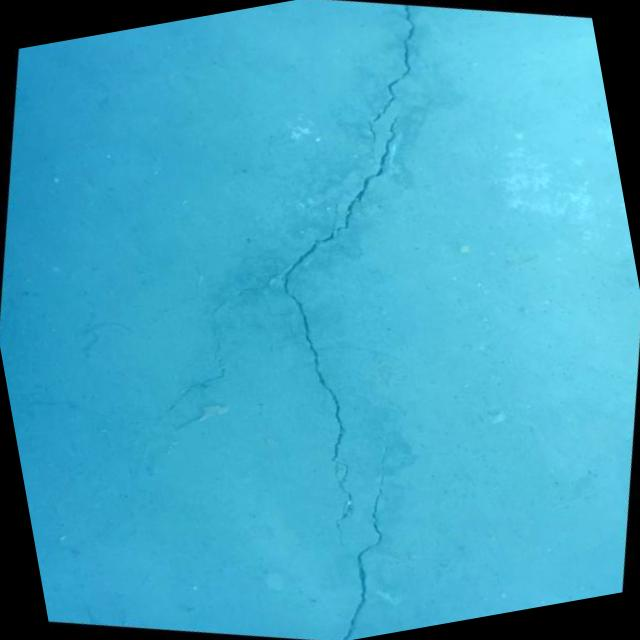crack: (123, 68, 474, 574), (19, 322, 236, 463), (307, 439, 421, 640), (341, 0, 442, 154)
